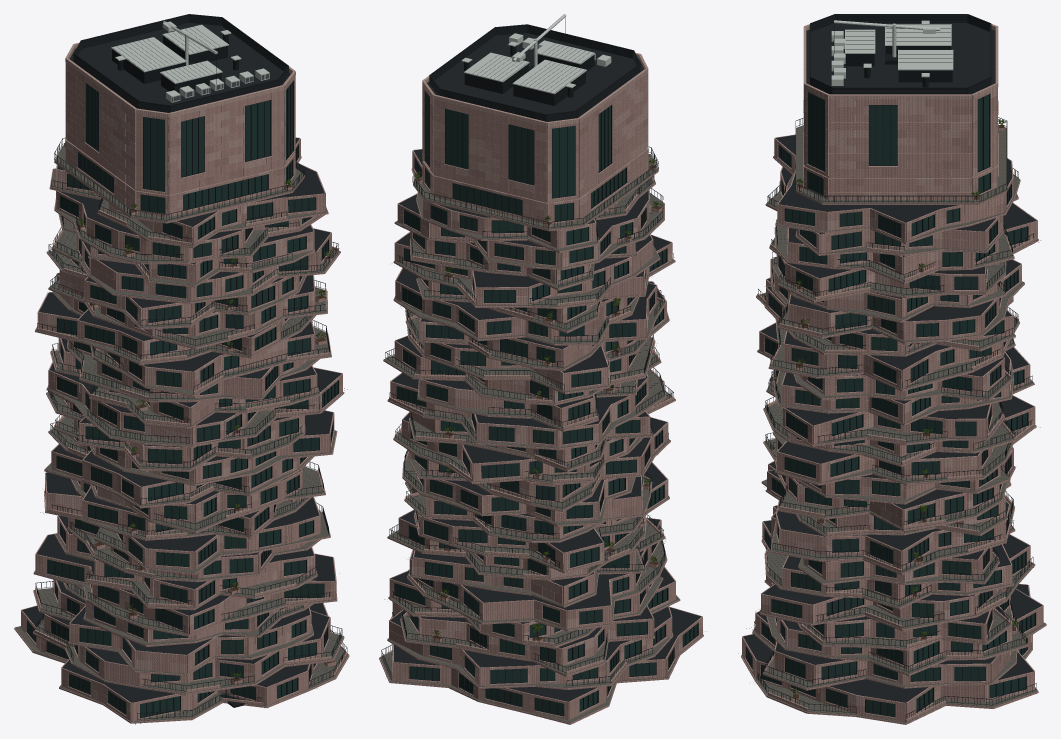
File: terrace-tower-e7e96cc3.fbx
3 views of the same model, side by side, from view 1: azimuth 30°, elevation 25°; view 2: azimuth 150°, elevation 25°; view 3: azimuth 270°, elevation 25° (orthographic). The views are drawn at different scales.
Parts seen in each view (by area): view 1: Levels_00_to_02__Rose_limestone, Broad_upper_crown__Rose_limestone, Roof_equipment__Graphite_metal, Levels_18_to_20__Rose_limestone, Broad_upper_crown__Reflective_glass, Levels_09_to_11__Rose_limestone, Levels_03_to_05__Rose_limestone, Levels_00_to_02__Reflective_glass, Levels_15_to_17__Rose_limestone, Roof_equipment__Pale_equipment, Levels_12_to_14__Rose_limestone, Levels_21_to_23__Rose_limestone (+65 smaller); view 2: Broad_upper_crown__Rose_limestone, Levels_00_to_02__Rose_limestone, Roof_equipment__Graphite_metal, Levels_03_to_05__Rose_limestone, Levels_18_to_20__Rose_limestone, Levels_00_to_02__Reflective_glass, Broad_upper_crown__Reflective_glass, Levels_15_to_17__Rose_limestone, Broad_upper_crown__Roof_membrane, Levels_09_to_11__Rose_limestone, Levels_21_to_23__Rose_limestone, Levels_12_to_14__Rose_limestone (+64 smaller); view 3: Levels_00_to_02__Rose_limestone, Broad_upper_crown__Roof_membrane, Broad_upper_crown__Rose_limestone, Levels_21_to_23__Rose_limestone, Levels_18_to_20__Rose_limestone, Roof_equipment__Graphite_metal, Levels_03_to_05__Rose_limestone, Levels_00_to_02__Reflective_glass, Levels_09_to_11__Rose_limestone, Levels_06_to_08__Rose_limestone, Levels_15_to_17__Rose_limestone, Roof_equipment__Pale_equipment (+65 smaller).
Boxes of the visible parts, left/top/right/bottom form: Levels_00_to_02__Rose_limestone: left=14, top=580, right=349, bottom=723; Broad_upper_crown__Rose_limestone: left=65, top=66, right=295, bottom=195; Roof_equipment__Graphite_metal: left=73, top=14, right=288, bottom=112; Levels_18_to_20__Rose_limestone: left=46, top=228, right=340, bottom=349; Broad_upper_crown__Reflective_glass: left=86, top=82, right=292, bottom=191; Levels_09_to_11__Rose_limestone: left=44, top=412, right=337, bottom=533; Levels_03_to_05__Rose_limestone: left=33, top=515, right=337, bottom=646; Levels_00_to_02__Reflective_glass: left=28, top=598, right=326, bottom=717; Levels_15_to_17__Rose_limestone: left=35, top=272, right=331, bottom=402; Roof_equipment__Pale_equipment: left=111, top=21, right=269, bottom=102; Levels_12_to_14__Rose_limestone: left=46, top=338, right=344, bottom=471; Levels_21_to_23__Rose_limestone: left=49, top=138, right=328, bottom=287; Broad_upper_crown__Rose_limestone: left=422, top=76, right=648, bottom=202; Levels_00_to_02__Rose_limestone: left=379, top=581, right=703, bottom=724; Roof_equipment__Graphite_metal: left=429, top=17, right=640, bottom=121; Levels_03_to_05__Rose_limestone: left=388, top=517, right=667, bottom=648; Levels_18_to_20__Rose_limestone: left=393, top=234, right=675, bottom=345; Levels_00_to_02__Reflective_glass: left=409, top=588, right=697, bottom=715; Broad_upper_crown__Reflective_glass: left=426, top=92, right=610, bottom=197; Levels_15_to_17__Rose_limestone: left=383, top=281, right=669, bottom=405; Broad_upper_crown__Roof_membrane: left=427, top=33, right=644, bottom=127; Levels_09_to_11__Rose_limestone: left=393, top=417, right=670, bottom=526; Levels_21_to_23__Rose_limestone: left=394, top=149, right=664, bottom=290; Levels_12_to_14__Rose_limestone: left=387, top=360, right=675, bottom=472; Levels_00_to_02__Rose_limestone: left=741, top=580, right=1046, bottom=724; Broad_upper_crown__Roof_membrane: left=806, top=23, right=995, bottom=99; Broad_upper_crown__Rose_limestone: left=803, top=87, right=997, bottom=177; Levels_21_to_23__Rose_limestone: left=765, top=134, right=1020, bottom=284; Levels_18_to_20__Rose_limestone: left=769, top=203, right=1038, bottom=343; Roof_equipment__Graphite_metal: left=810, top=14, right=991, bottom=94; Levels_03_to_05__Rose_limestone: left=760, top=505, right=1035, bottom=650; Levels_00_to_02__Reflective_glass: left=747, top=601, right=1034, bottom=716; Levels_09_to_11__Rose_limestone: left=763, top=401, right=1036, bottom=531; Levels_06_to_08__Rose_limestone: left=761, top=461, right=1015, bottom=585; Levels_15_to_17__Rose_limestone: left=756, top=277, right=1019, bottom=401; Roof_equipment__Pale_equipment: left=831, top=20, right=953, bottom=85.
Size of the model in its own units: 4.41 by 9.62 by 4.27.
Materials: 12 (10 with a texture image).
